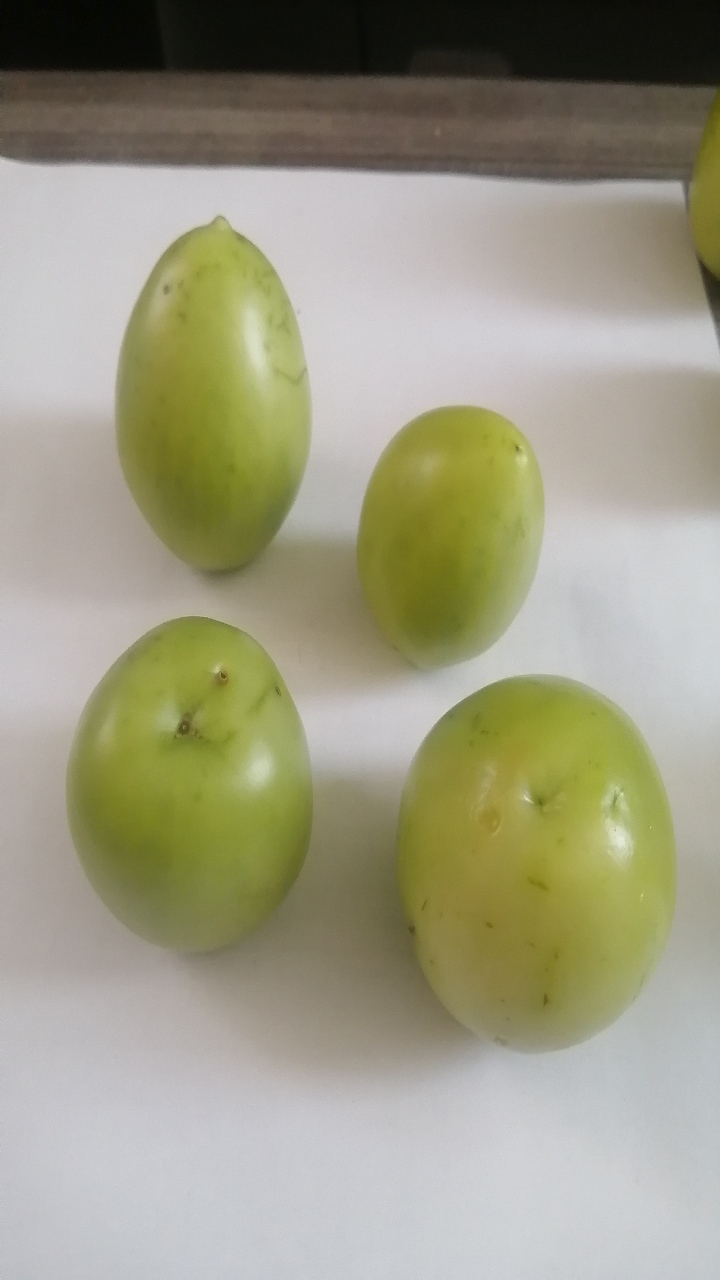tomateVerde: (361, 654, 695, 1092), (72, 194, 338, 606), (35, 600, 314, 965), (335, 374, 557, 702)
